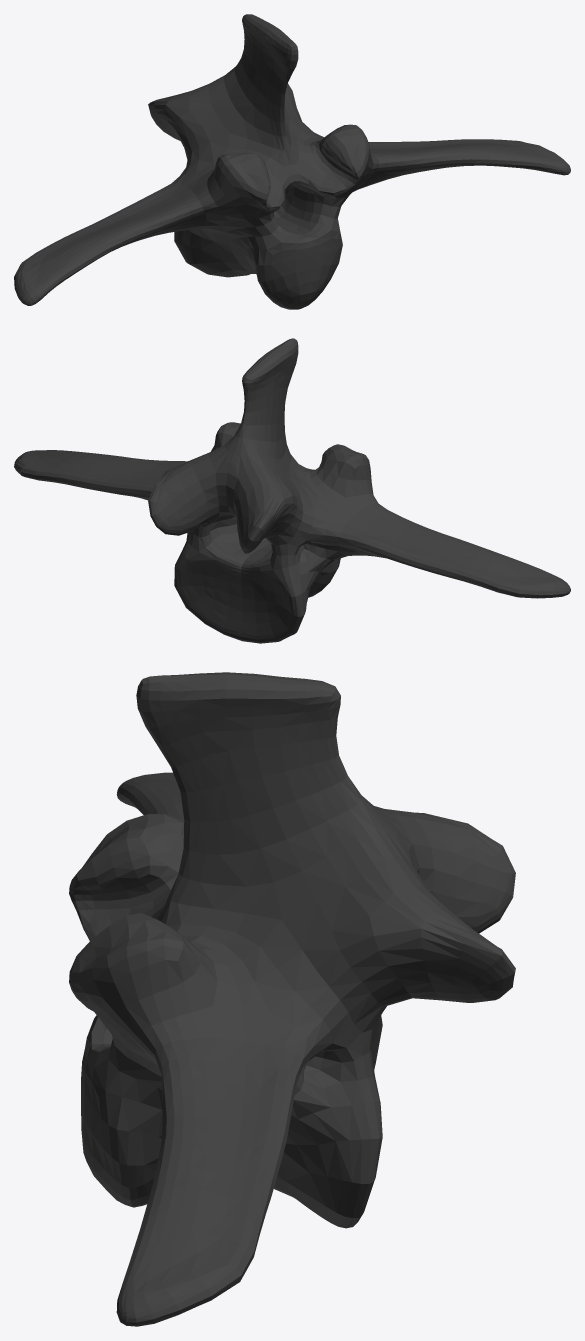
The picture shows the model from 3 angles, top to bottom: view 1: azimuth 30°, elevation 25°; view 2: azimuth 150°, elevation 25°; view 3: azimuth 270°, elevation 25°; orthographic projection. The views are drawn at different scales.
Parts seen in each view (by area): view 1: b_L6_LO; view 2: b_L6_LO; view 3: b_L6_LO.
Boxes of the visible parts, <box> form: b_L6_LO: <box>14,14,570,309</box>; b_L6_LO: <box>14,338,570,643</box>; b_L6_LO: <box>69,672,515,1326</box>.
Bounding box in the file's own units: 0.00278 × 0.0013 × 0.000981.
Materials: 1 (1 with a texture image).
